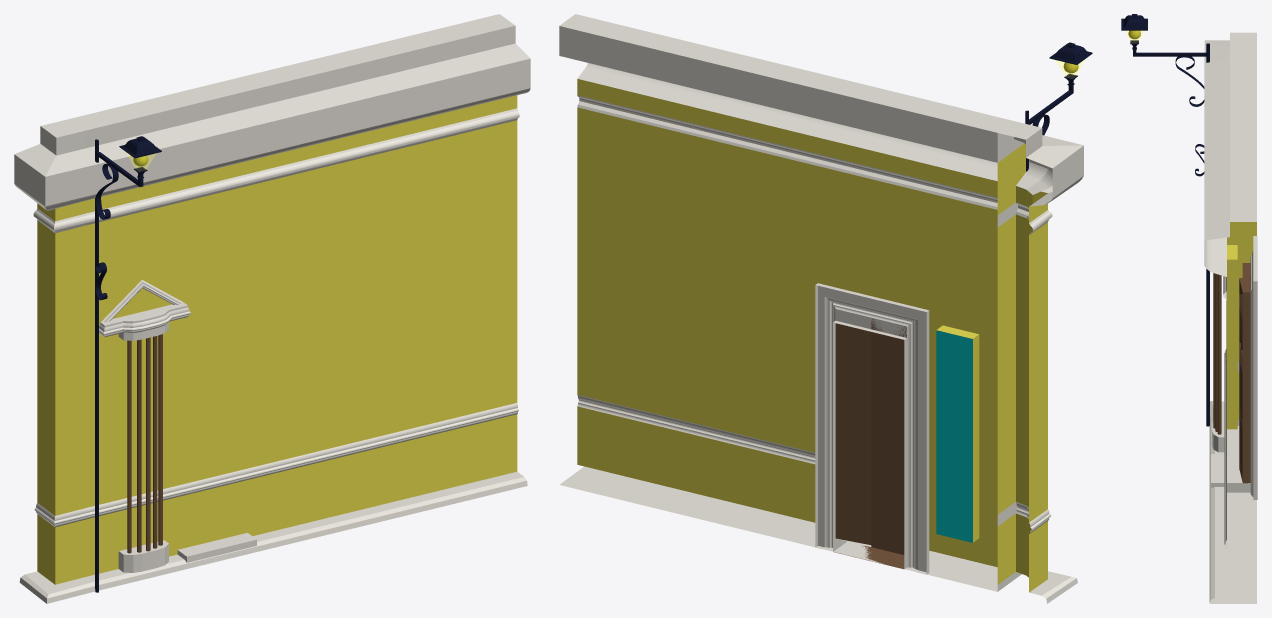
File: izamalModular.fbx
3 views of the same model, side by side, from view 1: azimuth 30°, elevation 25°; view 2: azimuth 150°, elevation 25°; view 3: azimuth 270°, elevation 25° (orthographic). The views are drawn at different scales.
Parts seen in each view (by area): view 1: Wall2x2x0.25, Wall1x2x0.25, Corner90, Window, WindowBars, Pole, Door; view 2: Wall2x2x0.25, Wall1x2x0.25, Door, Window, Corner90, WallProfile, Corner45, Pole; view 3: Wall2x2x0.25, Door, Window, Wall1x2x0.25, Pole, WallProfile, WindowBars, Corner90.
Part boxes in pixels (box(x1,y1,x2,y2)): Wall2x2x0.25: box(72, 14, 530, 589); Wall1x2x0.25: box(68, 66, 314, 589); Corner90: box(14, 119, 99, 603); Window: box(72, 99, 206, 590); WindowBars: box(127, 334, 162, 553); Pole: box(95, 136, 161, 592); Door: box(177, 533, 256, 562); Wall2x2x0.25: box(559, 14, 1011, 591); Wall1x2x0.25: box(778, 68, 1013, 582); Door: box(815, 283, 929, 574); Window: box(894, 94, 1012, 591); Corner90: box(999, 121, 1083, 603); WallProfile: box(997, 133, 1029, 591); Corner45: box(998, 121, 1052, 577); Pole: box(1025, 42, 1092, 171); Wall2x2x0.25: box(1204, 45, 1256, 603); Door: box(1211, 236, 1257, 499); Window: box(1204, 45, 1254, 467); Wall1x2x0.25: box(1204, 44, 1256, 509); Pole: box(1121, 14, 1209, 426); WallProfile: box(1227, 222, 1256, 425); WindowBars: box(1215, 273, 1221, 434); Corner90: box(1204, 32, 1256, 422).
Size of the model in its own units: 225 by 216 by 64.56.
